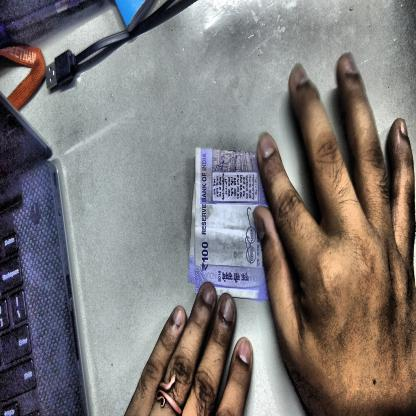Rs100: (200, 239, 210, 276)
